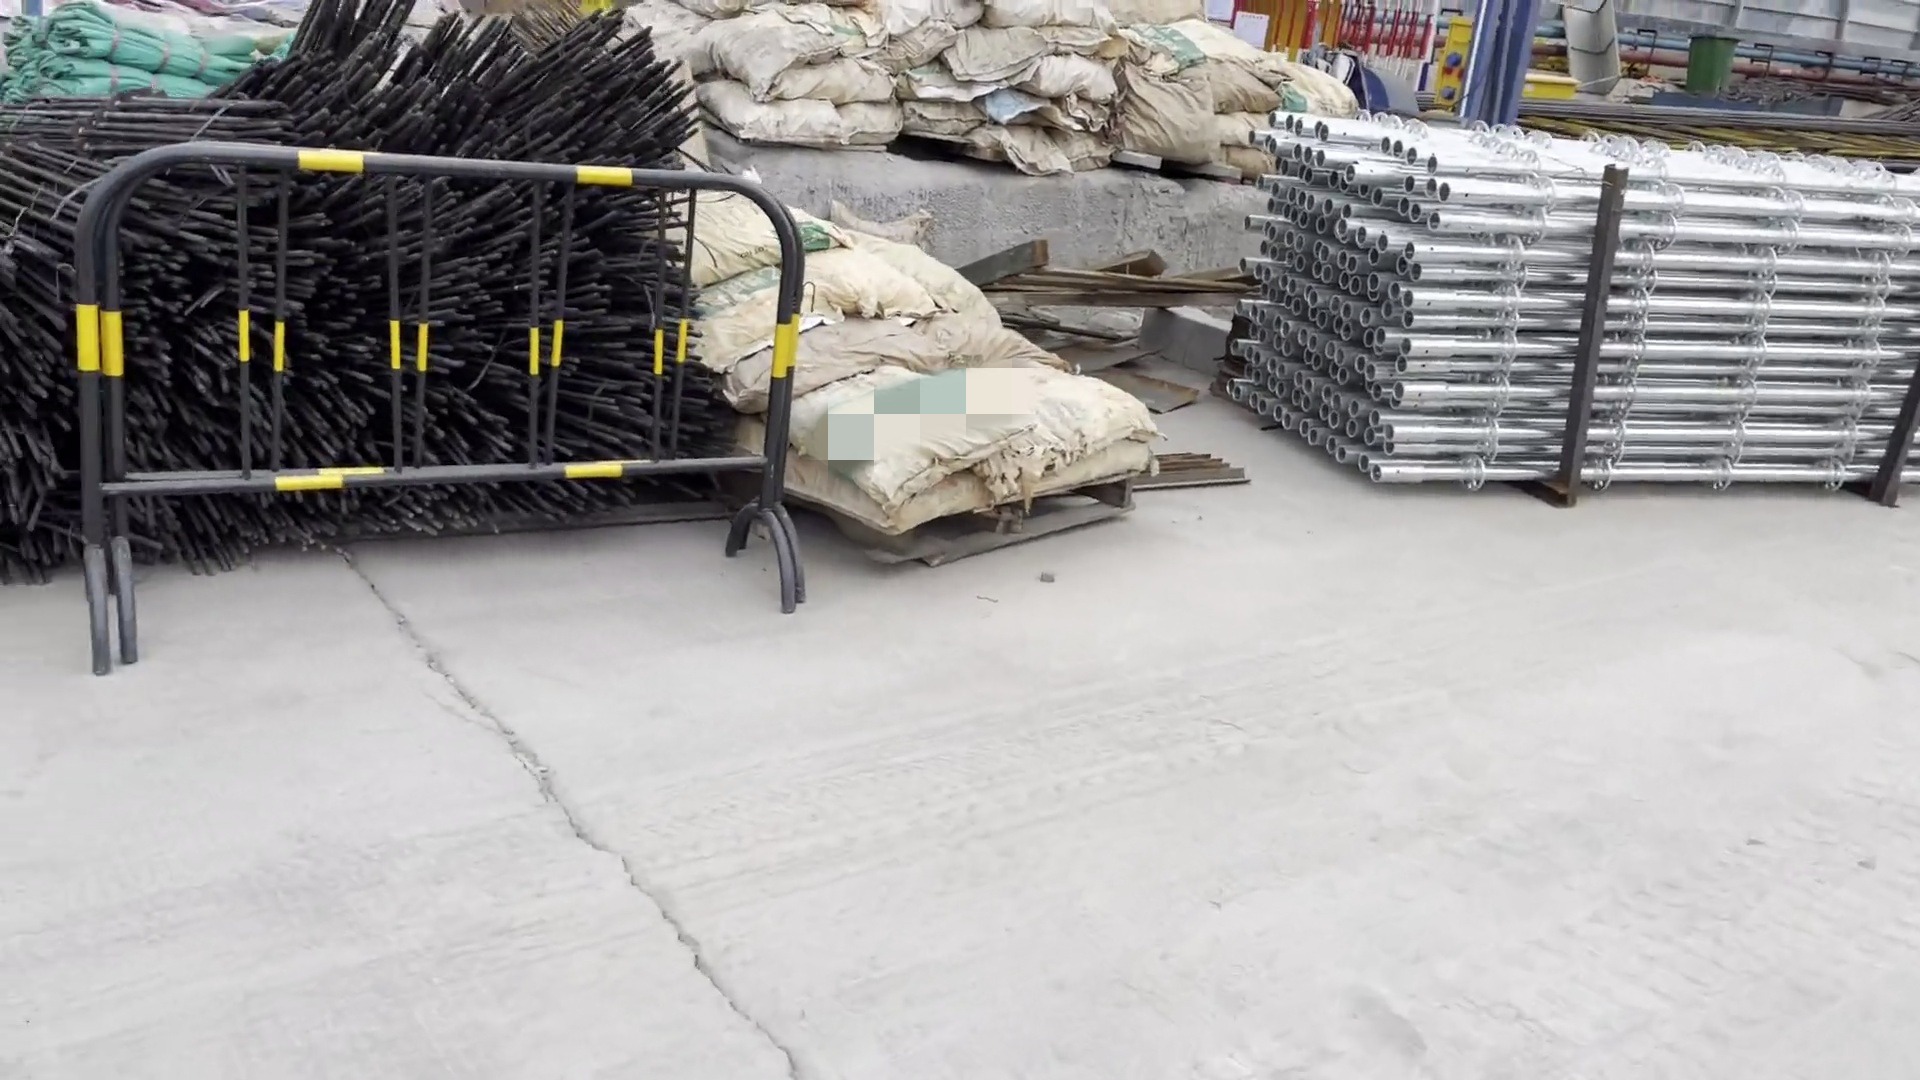scaffold: (1193, 69, 1920, 496)
